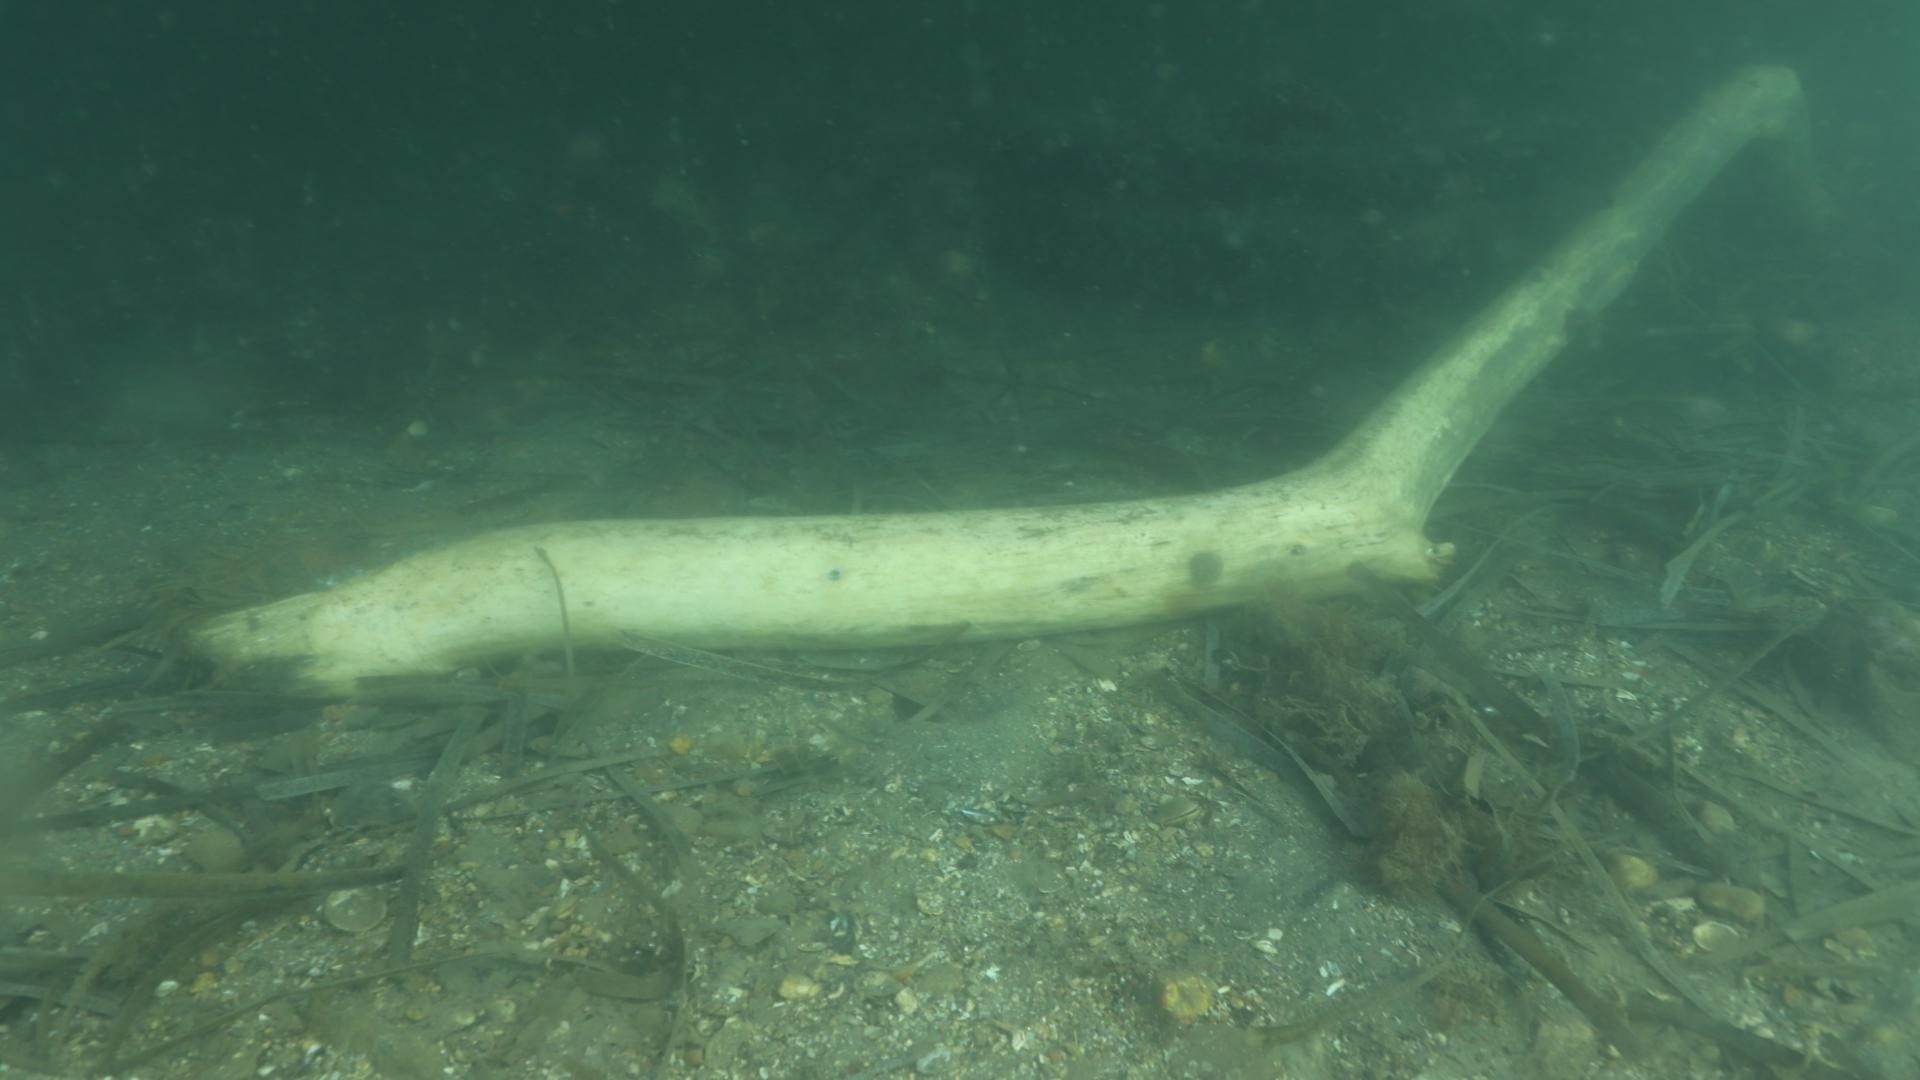wood: (189, 57, 1847, 696)
